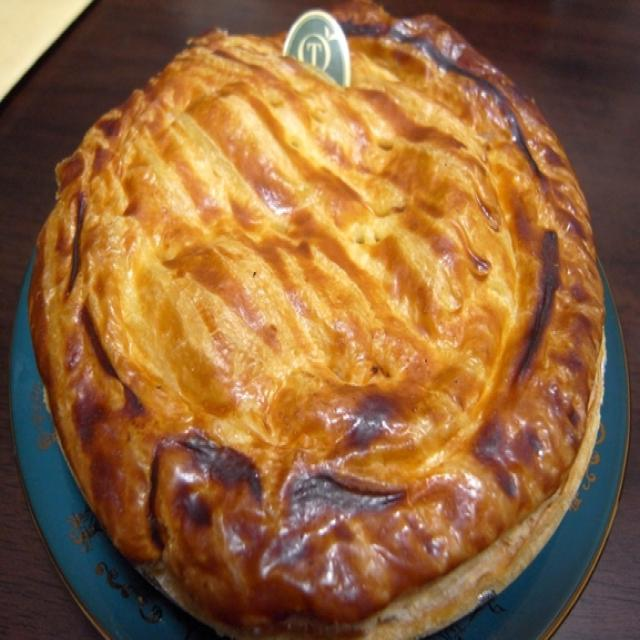炸货点心: (25, 15, 619, 621)
蛋糕甜品: (25, 15, 619, 621)
